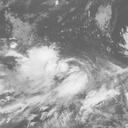cyclone: (25, 47, 91, 102)
